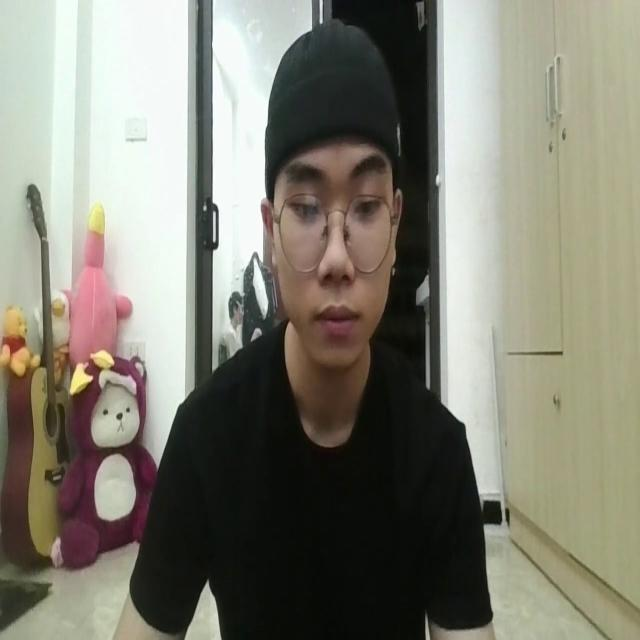student: (121, 15, 491, 640)
